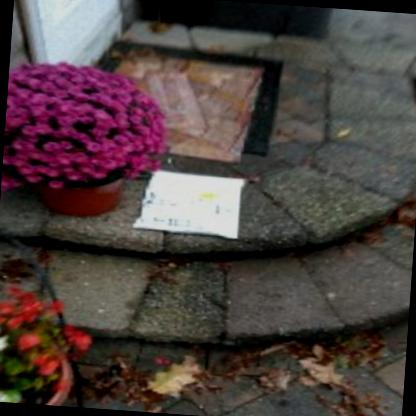plastic_bag: (131, 169, 248, 241)
